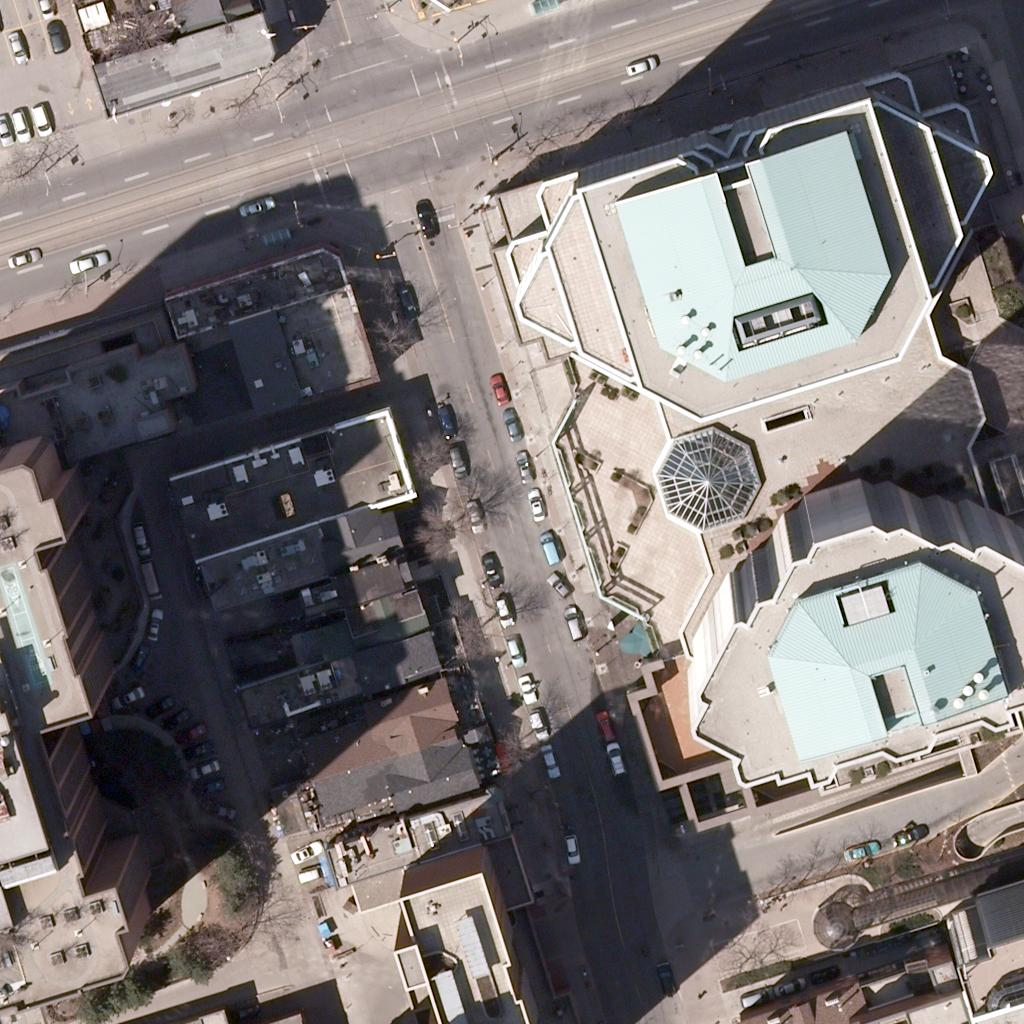car: (38, 19, 72, 53), (623, 49, 657, 83), (22, 101, 56, 135), (2, 107, 36, 141), (236, 190, 270, 224), (408, 200, 442, 234), (3, 241, 37, 275), (69, 246, 103, 280), (388, 281, 422, 315), (481, 374, 515, 408), (426, 400, 460, 434), (494, 408, 528, 442), (440, 441, 474, 475), (506, 450, 540, 484), (518, 488, 552, 522), (456, 494, 490, 528), (121, 518, 155, 552), (532, 533, 566, 567), (472, 548, 506, 582), (130, 560, 164, 594), (542, 570, 576, 604), (484, 589, 518, 623), (136, 607, 170, 641), (556, 609, 590, 643), (495, 629, 529, 663), (121, 640, 155, 674), (510, 669, 544, 703), (111, 679, 145, 713), (142, 689, 176, 723), (157, 702, 191, 736), (157, 703, 191, 737), (520, 705, 554, 739), (588, 713, 622, 747), (173, 717, 207, 751), (181, 735, 215, 769), (530, 742, 564, 776), (597, 743, 631, 777), (186, 752, 220, 786), (191, 768, 225, 802), (202, 792, 236, 826), (890, 818, 924, 852), (553, 830, 587, 864), (842, 833, 876, 867), (286, 834, 320, 868), (292, 856, 326, 890), (806, 958, 840, 992), (648, 965, 682, 999), (770, 972, 804, 1006), (736, 982, 770, 1016), (0, 27, 31, 61), (25, 0, 59, 19), (0, 111, 18, 145)
